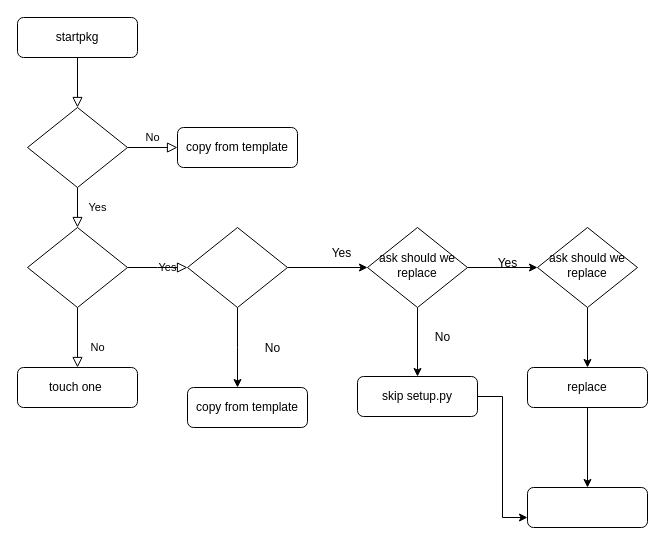
Image size: 665x545. Some labels were removed from this diagram. The shapes that lost their labels are listed below. From the top down, each one's centre as x and y in pixels, then its label:
At [77,147]: "has licence?".
At [77,267]: "skip has readme?".
At [237,267]: "skip | has setup.py ?".
At [587,507]: "copy other files".
